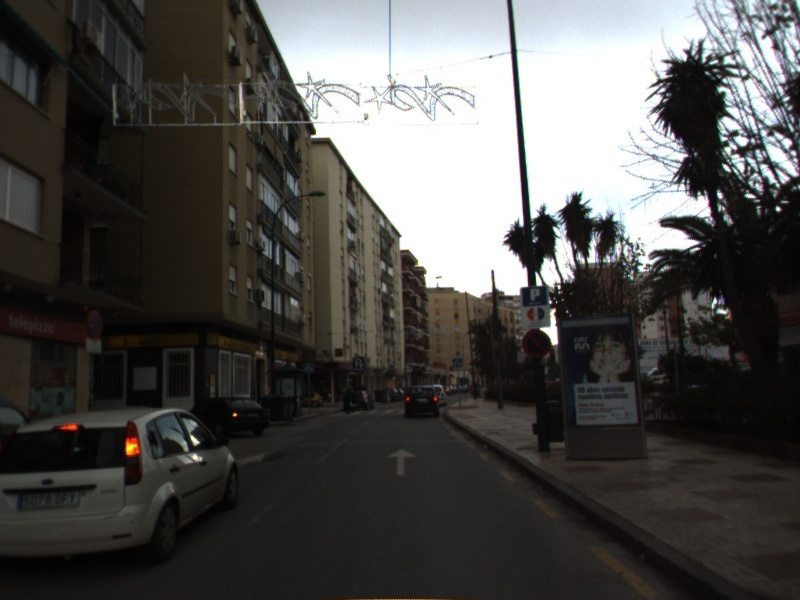STRAIGHT: (384, 446, 420, 478)
